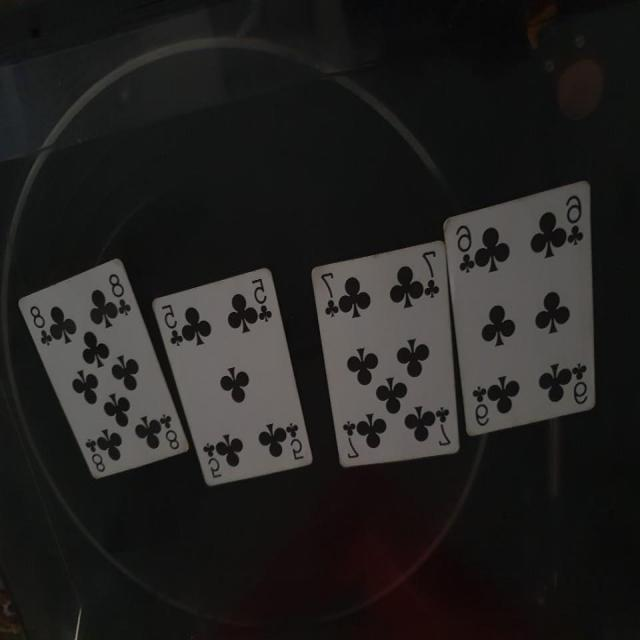5 of clubs: (152, 262, 314, 487)
6 of clubs: (442, 180, 598, 437)
7 of clubs: (308, 239, 462, 469)
8 of clubs: (18, 255, 189, 480)
